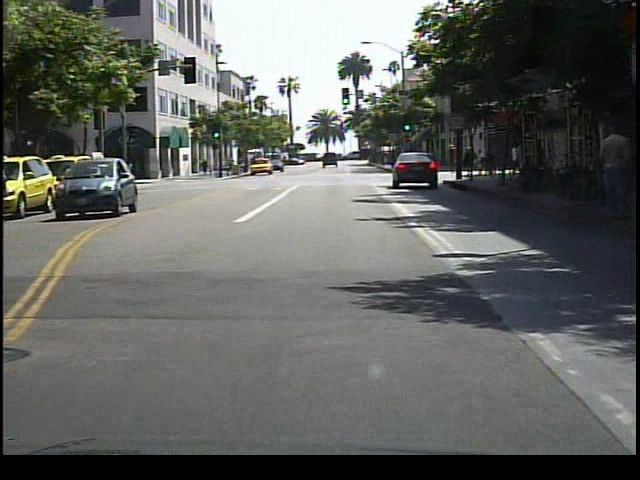person: (592, 121, 629, 231), (6, 149, 8, 226)
